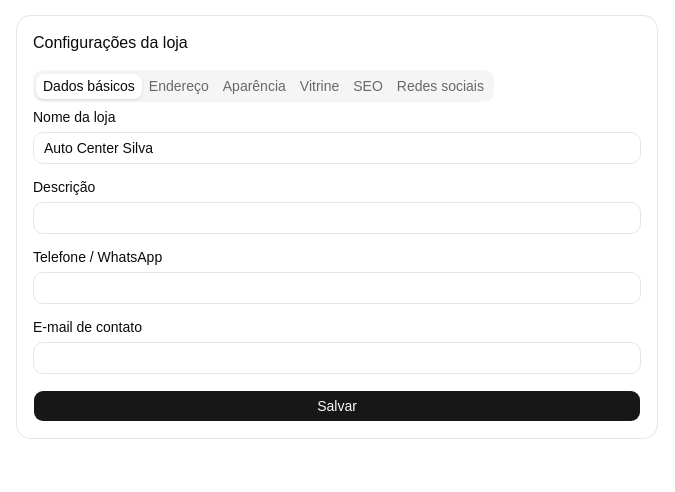
Scenario: ConfiguracoesPage › edita e salva os dados básicos
Type "11999999999" into the field labelled "Telefone / WhatsApp" at (337, 288), box [33, 272, 641, 304]
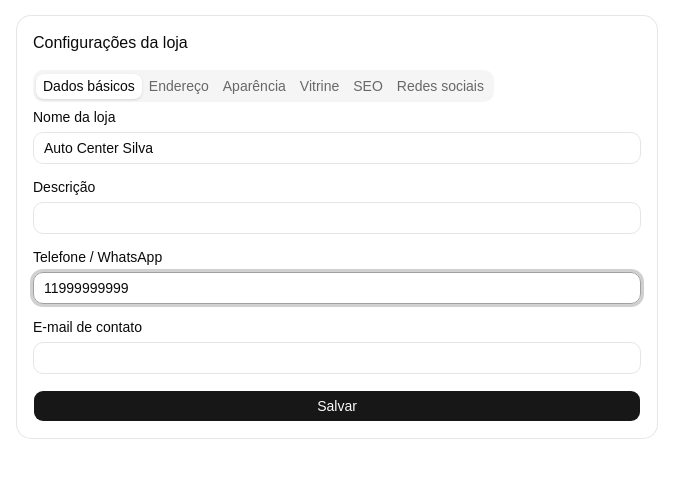
Click the button "Salvar" at (337, 406), box [33, 390, 641, 422]
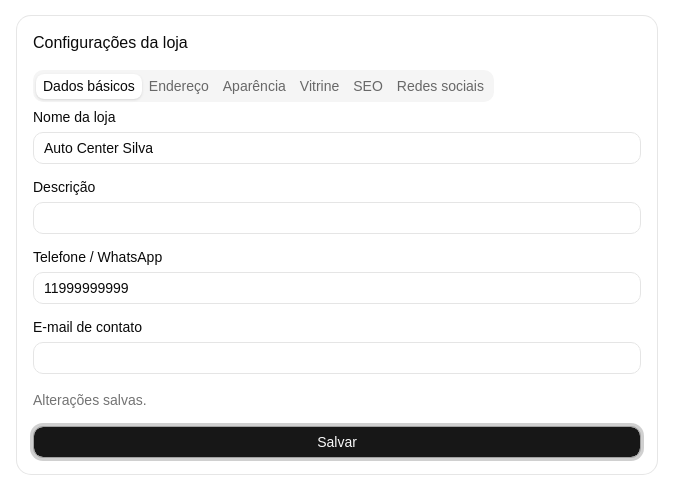
Result: the text "Alterações salvas." is shown at [33, 392, 147, 408]
